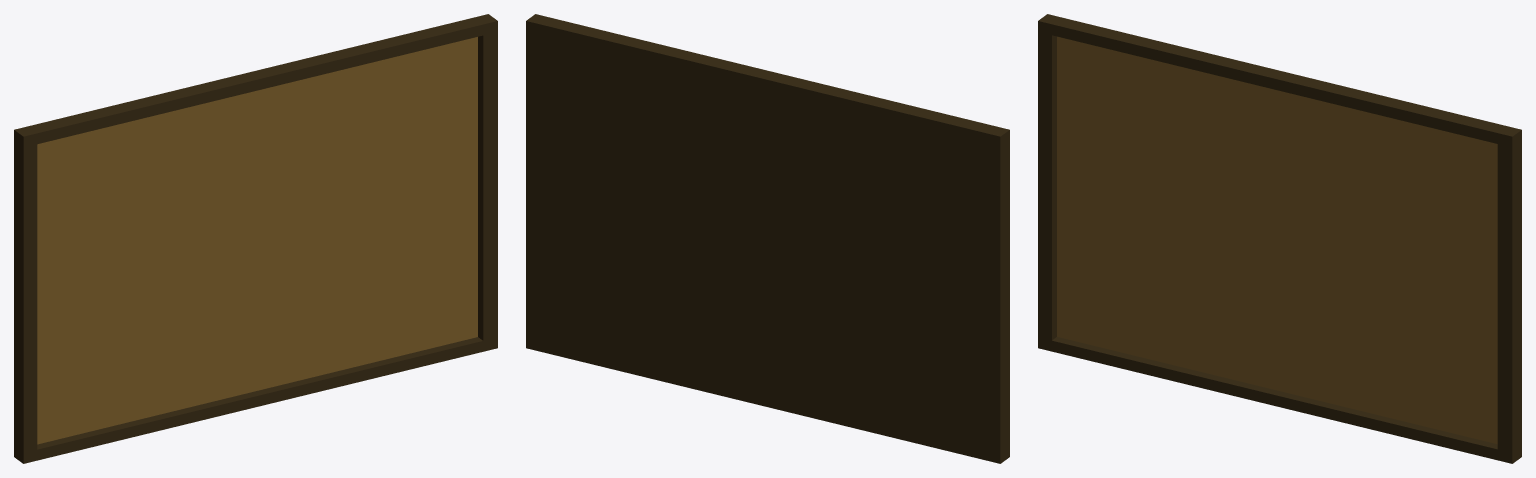
The model's file is Pinboard.glb.
The picture shows the model from 3 angles, left to right: view 1: azimuth 30°, elevation 25°; view 2: azimuth 150°, elevation 25°; view 3: azimuth 330°, elevation 25°; orthographic projection.
Parts seen in each view (by area): view 1: Pimboard; view 2: Pimboard; view 3: Pimboard.
Boxes of the visible parts, x1,y1,x2,y2 form: Pimboard: [14, 14, 497, 463]; Pimboard: [526, 14, 1009, 463]; Pimboard: [1038, 14, 1521, 463].
Bounding box in the file's own units: 2.37 × 1.56 × 0.082.
